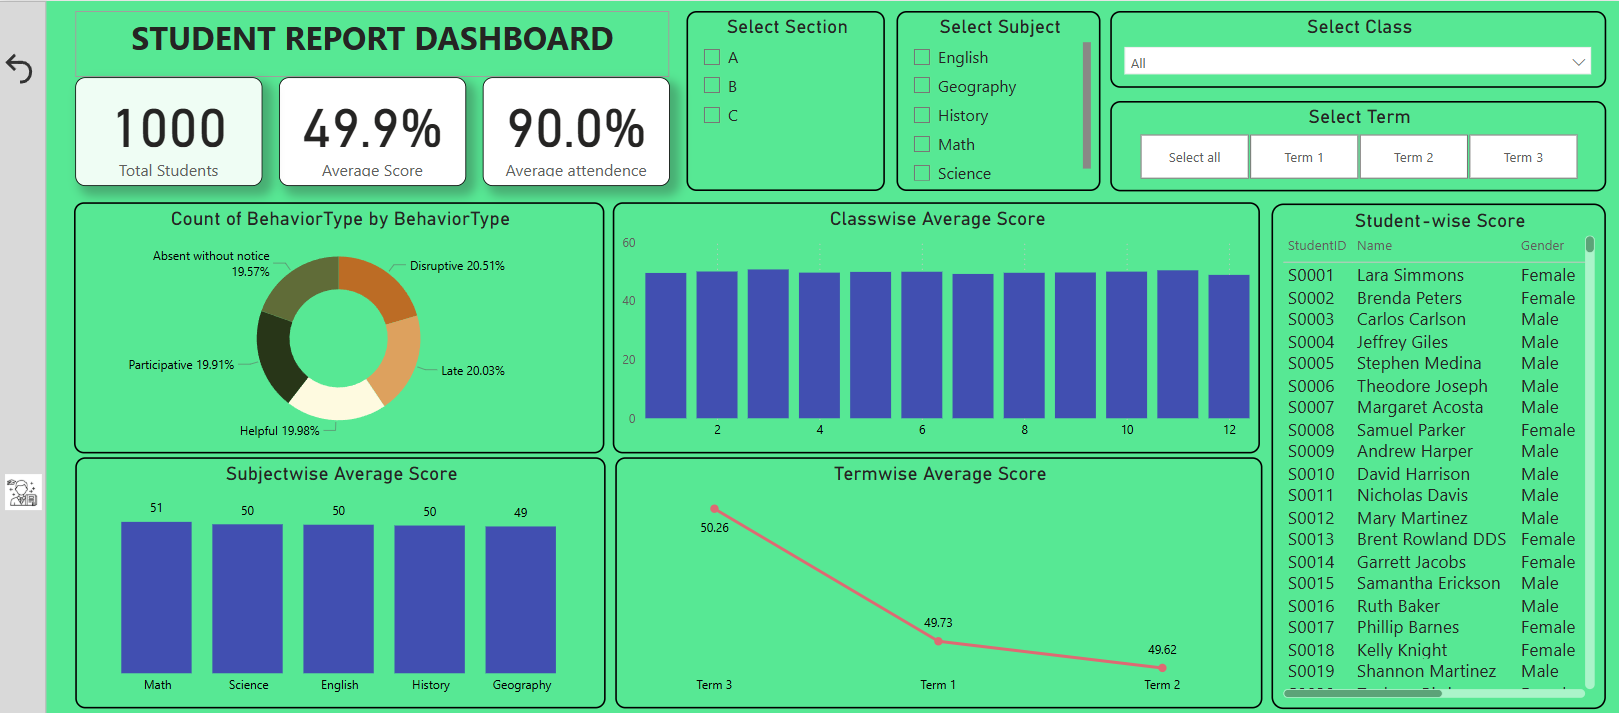

This screenshot's page, from the dashboard's own definition file:
{"tool":"powerbi","page":{"name":"Executive","canvas":[1625,720],"ordinal":0},"visuals":[{"type":"textbox","box":[75.7,10,594.3,65.7],"z":0},{"type":"card","fields":{"Values":["Measure Table.Average Score"]},"box":[279.5,75.7,187.1,108.6],"z":1000},{"type":"card","fields":{"Values":["Measure Table.Total Students"]},"box":[75.7,75.7,187.1,108.6],"z":2000},{"type":"card","fields":{"Values":["Measure Table.Average attendence"]},"box":[483.3,75.7,187,108.6],"z":3000},{"type":"columnChart","title":"Subjectwise Average Score","fields":{"Category":["Scores csv.Subject"],"Y":["Avg(Scores csv.Score)"]},"box":[75.7,455.7,530,251.4],"z":4000},{"type":"columnChart","title":"Classwise Average Score","fields":{"Y":["Avg(Scores csv.Score)"],"Category":["Students csv.Class"]},"box":[613.7,201.4,647.1,251.4],"z":5000},{"type":"lineChart","title":"Termwise Average Score","fields":{"Category":["Scores csv.Term"],"Y":["Avg(Scores csv.Score)"]},"box":[615.7,455.7,647.1,251.4],"z":6000},{"type":"donutChart","fields":{"Category":["Behavior csv.BehaviorType"],"Y":["CountNonNull(Behavior csv.BehaviorType)"]},"box":[75.1,201.4,530,251.4],"z":7000},{"type":"tableEx","title":"Student-wise Score","fields":{"Values":["Attendance csv.StudentID","Students csv.Name","Students csv.Gender","Avg(Students csv.Class)","Students csv.Section","Avg(Scores csv.Score)"]},"box":[1272.9,202.9,334.3,505.7],"z":8000},{"type":"slicer","title":"Select Class","fields":{"Values":["Students csv.Class"]},"box":[1111.4,10,495.7,77.1],"z":9000},{"type":"slicer","title":"Select Section","fields":{"Values":["Students csv.Section"]},"box":[687.1,10,198.6,180],"z":10000},{"type":"slicer","title":"Select Subject","fields":{"Values":["Scores csv.Subject"]},"box":[897.1,10,204.3,180],"z":11000},{"type":"slicer","title":"Select Term","fields":{"Values":["Scores csv.Term"]},"box":[1111.4,100,495.7,90],"z":12000},{"type":"textbox","box":[0,0,47.1,720],"z":13000},{"type":"actionButton","box":[0,47.5,47.5,40],"z":14000},{"type":"image","box":[1.2,467.5,46.2,47.5],"z":15000}]}

Visuals, with their boxes on the page's 1625x720 design canvas (x1, y1, x2, y2). These are canvas units, not pixel positions in the 1619x713 screenshot, which may show the page scaled, cropped or inside an application window:
textbox: [left=76, top=10, right=670, bottom=76]
card - Measure Table.Average Score: [left=280, top=76, right=467, bottom=184]
card - Measure Table.Total Students: [left=76, top=76, right=263, bottom=184]
card - Measure Table.Average attendence: [left=483, top=76, right=670, bottom=184]
"Subjectwise Average Score" columnChart: [left=76, top=456, right=606, bottom=707]
"Classwise Average Score" columnChart: [left=614, top=201, right=1261, bottom=453]
"Termwise Average Score" lineChart: [left=616, top=456, right=1263, bottom=707]
donutChart - Behavior csv.BehaviorType x CountNonNull(Behavior csv.BehaviorType): [left=75, top=201, right=605, bottom=453]
"Student-wise Score" tableEx: [left=1273, top=203, right=1607, bottom=709]
"Select Class" slicer: [left=1111, top=10, right=1607, bottom=87]
"Select Section" slicer: [left=687, top=10, right=886, bottom=190]
"Select Subject" slicer: [left=897, top=10, right=1101, bottom=190]
"Select Term" slicer: [left=1111, top=100, right=1607, bottom=190]
textbox: [left=0, top=0, right=47, bottom=720]
actionButton: [left=0, top=48, right=48, bottom=88]
image: [left=1, top=468, right=47, bottom=515]
